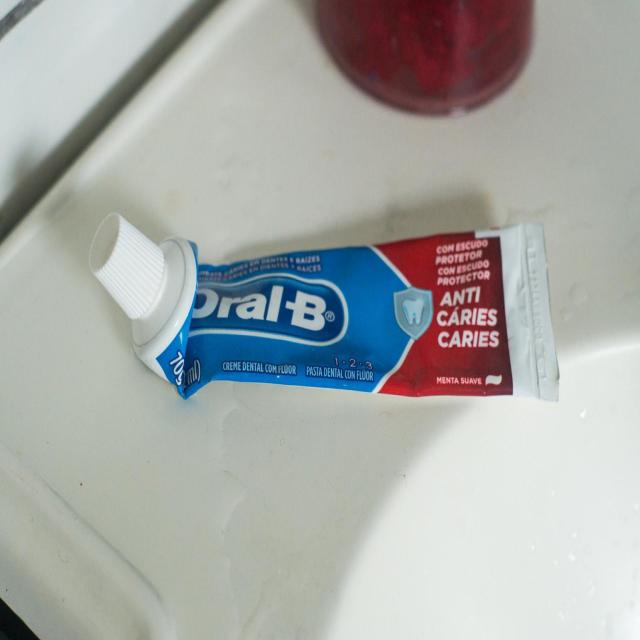Toothpaste: (86, 214, 566, 404)
